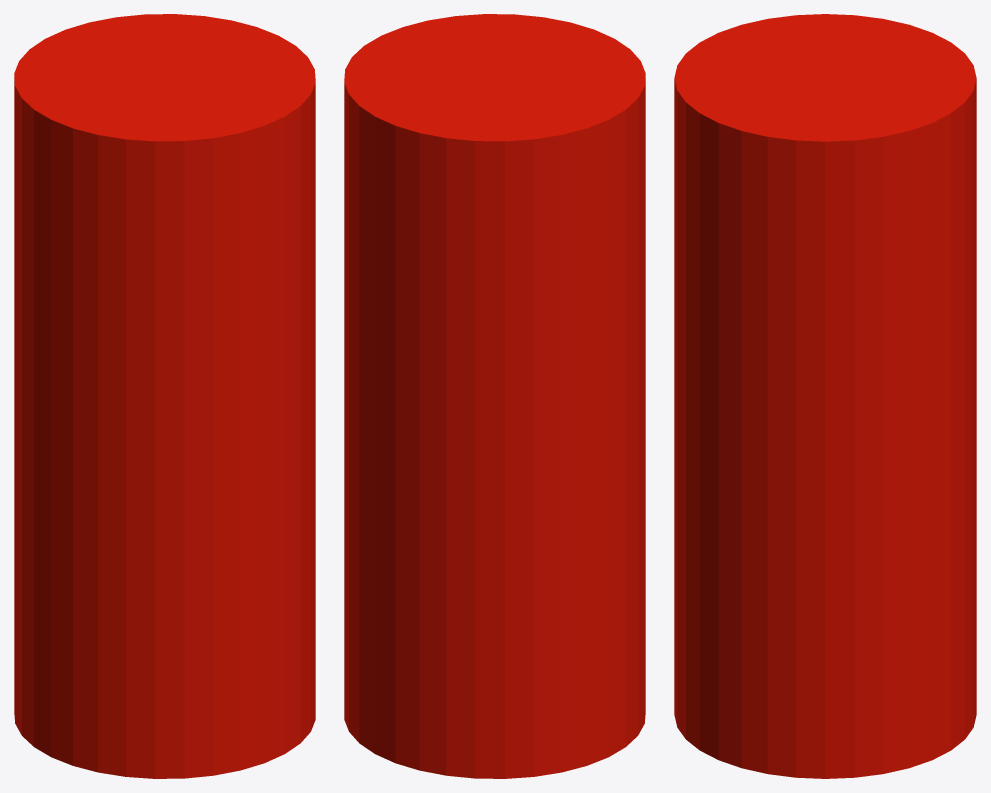
3 renders of one model, left to right at view 1: azimuth 30°, elevation 25°; view 2: azimuth 150°, elevation 25°; view 3: azimuth 270°, elevation 25°, orthographic.
Parts seen in each view (by area): view 1: tmp_export_Cylinder.049; view 2: tmp_export_Cylinder.049; view 3: tmp_export_Cylinder.049.
Part boxes in pixels (x1,y1,x2,y2): tmp_export_Cylinder.049: (14,14,315,778); tmp_export_Cylinder.049: (344,14,645,778); tmp_export_Cylinder.049: (674,14,976,778).
Bounding box in the file's own units: 2 × 2 × 4.65.
